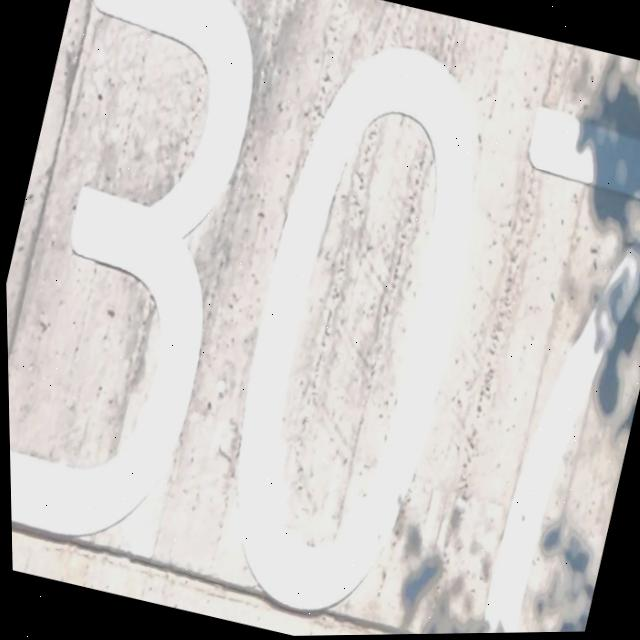character: (179, 10, 534, 637), (0, 0, 304, 570), (396, 91, 640, 634)
